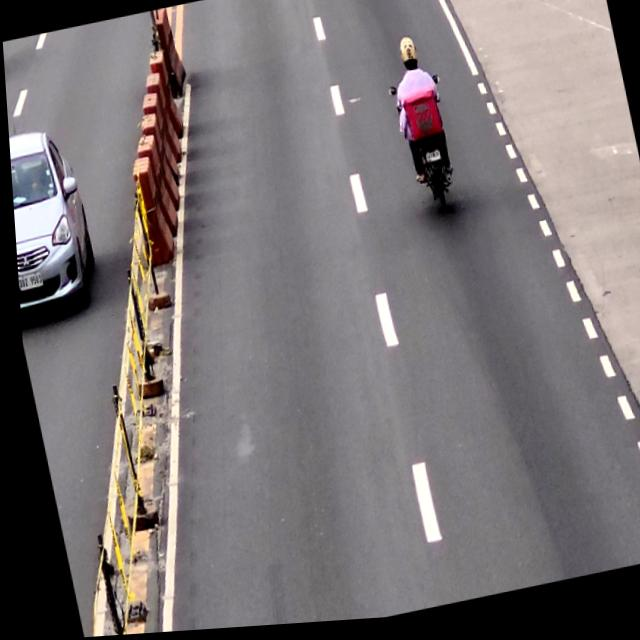License-Plate: (421, 155, 441, 169)
Motorcycle: (385, 76, 465, 225)
